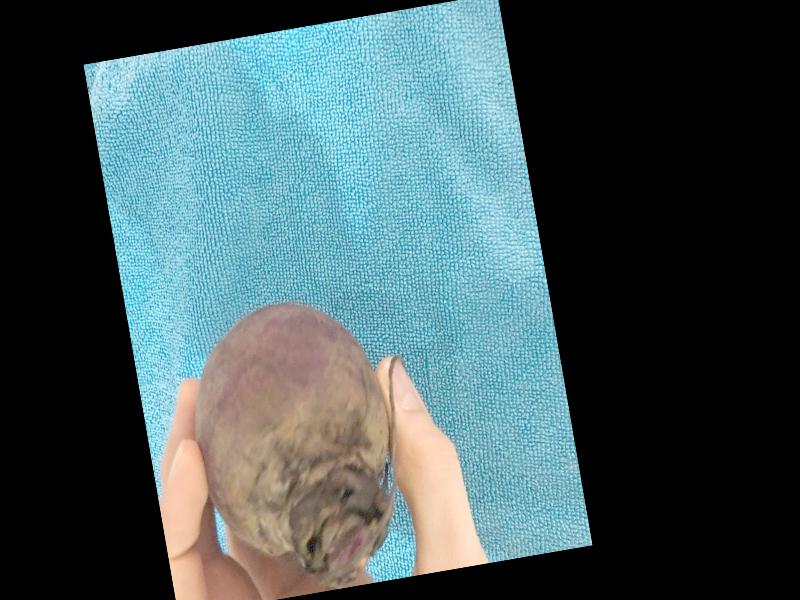Beet: (176, 285, 437, 600)
